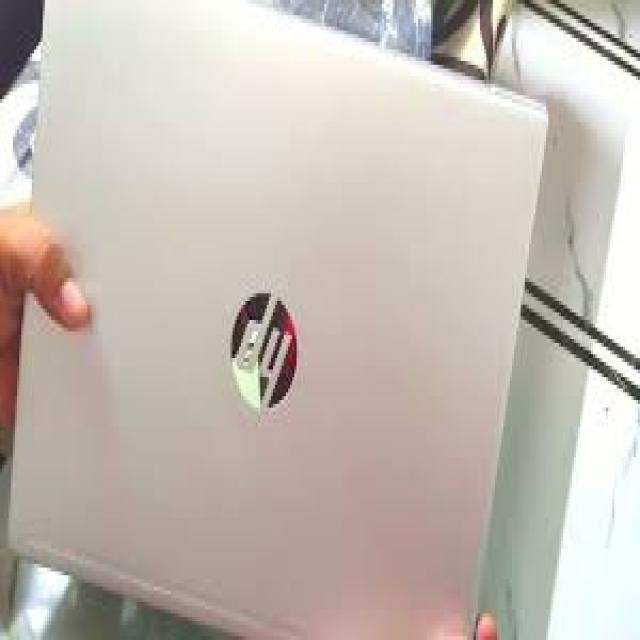laptop: (6, 0, 548, 636)
